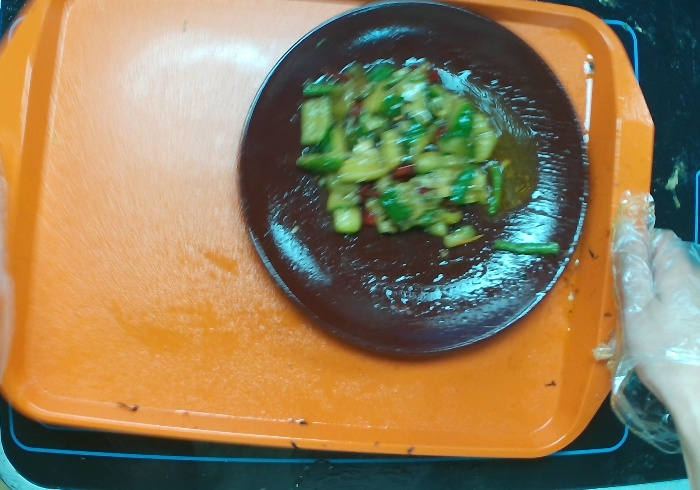HZYJPL-Ka_Fei_Yuan_Pan: (227, 1, 598, 380)
